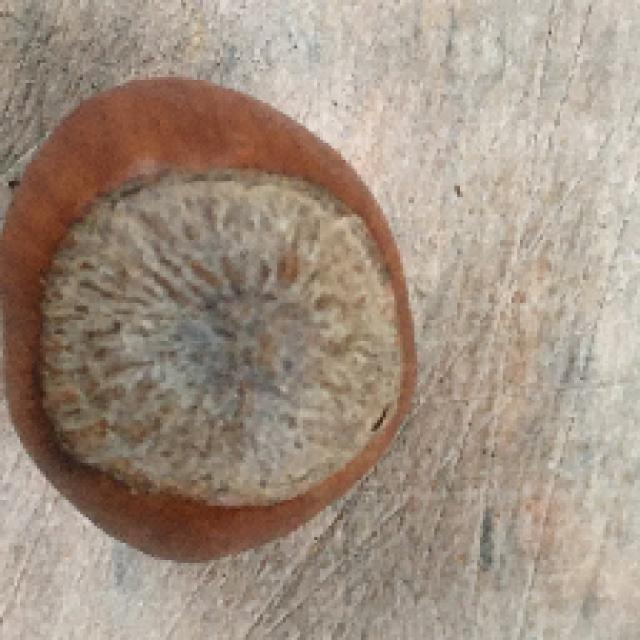damagedHazelnut: (0, 70, 423, 578)
